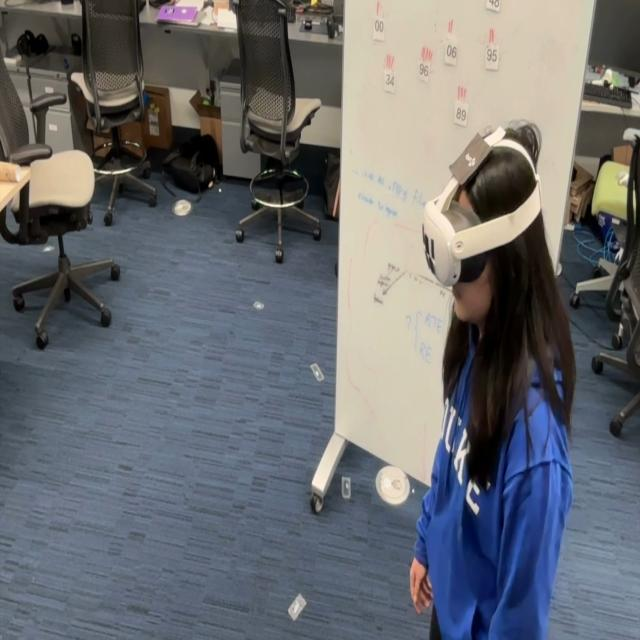Headset: (421, 125, 543, 288)
UnityLogo: (448, 128, 493, 187)
